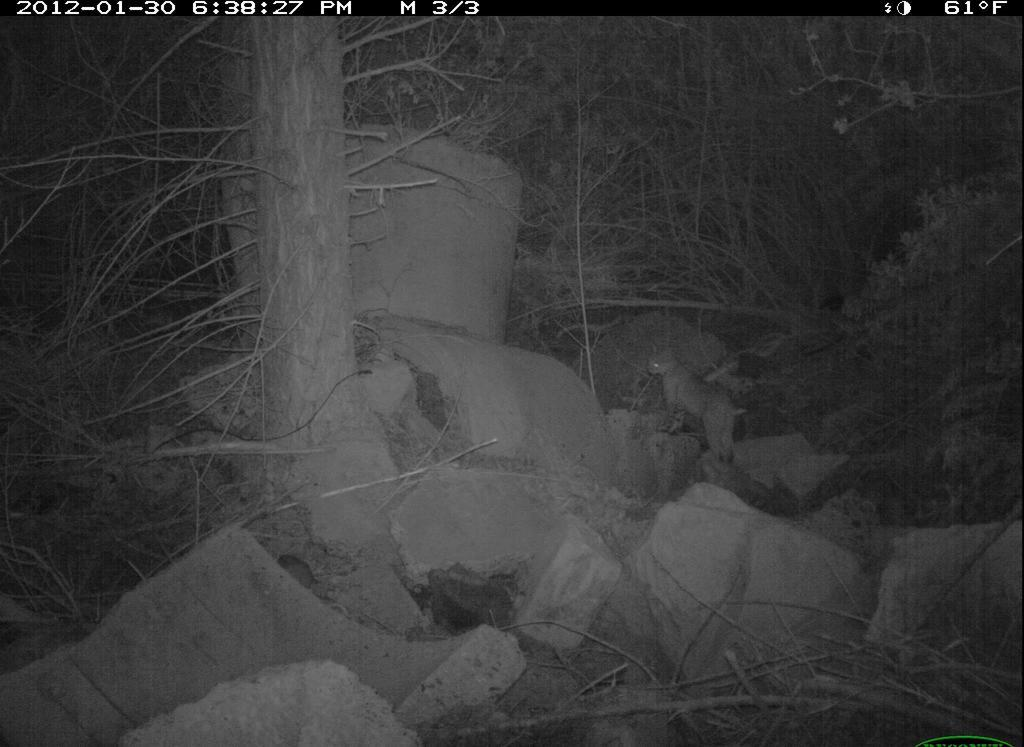bobcat: (632, 333, 762, 481)
